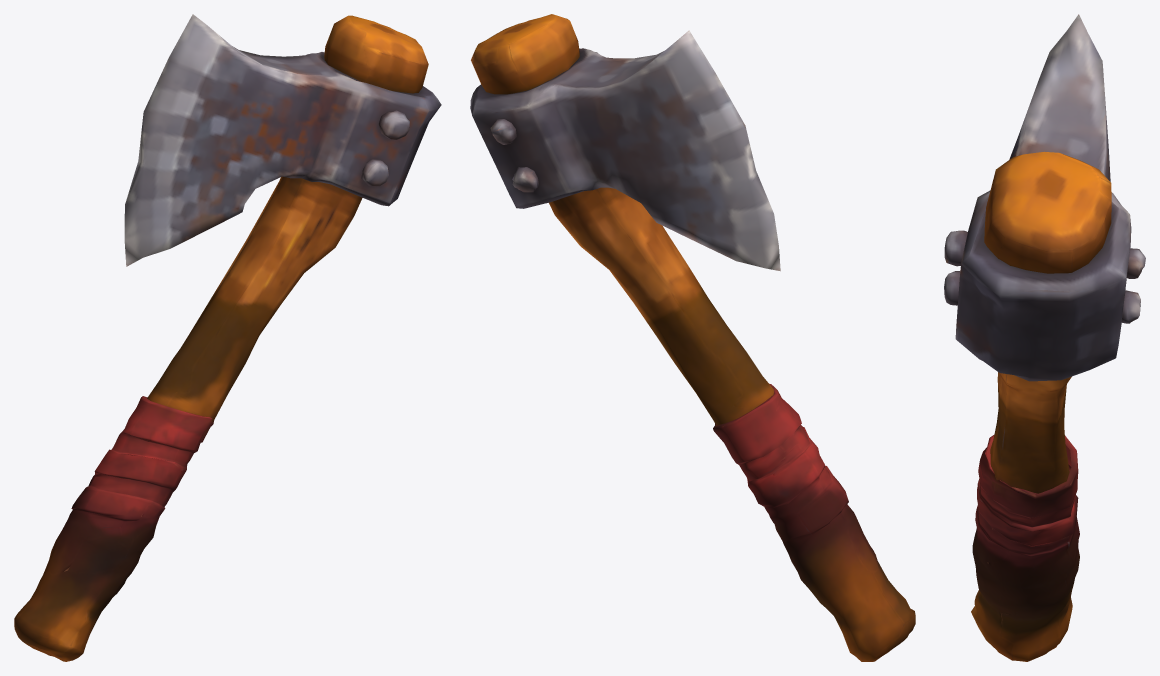
File: TOOL_axe.glb
The picture shows the model from 3 angles, left to right: view 1: azimuth 30°, elevation 25°; view 2: azimuth 150°, elevation 25°; view 3: azimuth 270°, elevation 25°; orthographic projection. The views are drawn at different scales.
Parts seen in each view (by area): view 1: geometry_0; view 2: geometry_0; view 3: geometry_0.
Part boxes in pixels (left/top/right/bottom): geometry_0: left=14, top=14, right=441, bottom=661; geometry_0: left=470, top=14, right=915, bottom=661; geometry_0: left=944, top=14, right=1145, bottom=661.
Bounding box in the file's own units: 0.4761 × 0.6519 × 0.1616.
1 material, 1 textured.
